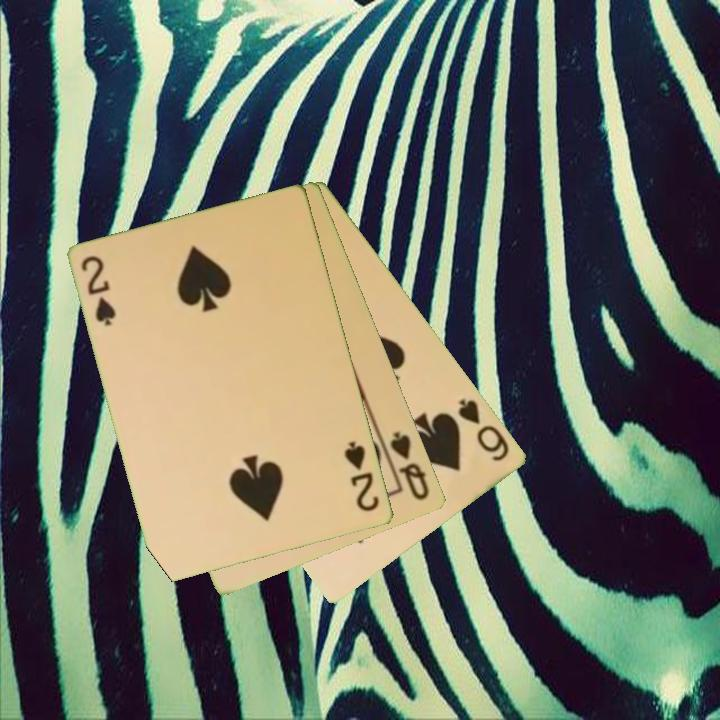2s: (341, 437, 383, 515), (78, 252, 120, 330)
6s: (455, 395, 513, 465)
Qs: (387, 428, 433, 504)
